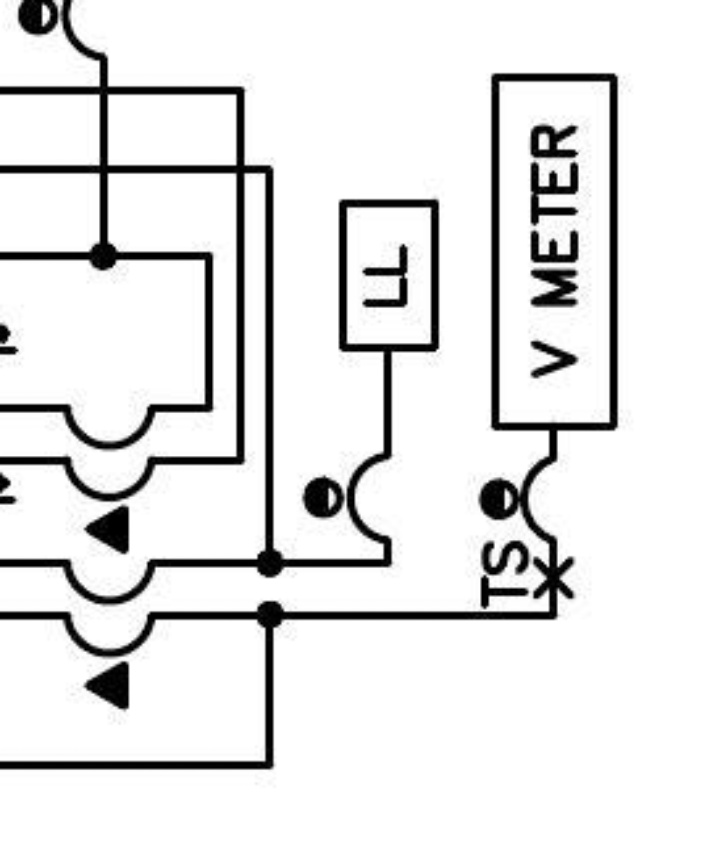LL: (336, 197, 443, 354)
v_m_digital: (489, 71, 621, 434)
